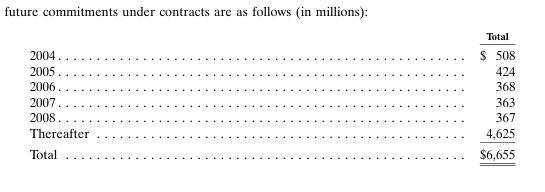table: (28, 28, 514, 160)
table column: (28, 28, 283, 160), (283, 28, 514, 160)
table column header: (28, 28, 514, 43)
table row: (28, 43, 514, 62), (28, 124, 514, 142), (28, 142, 514, 160), (28, 77, 514, 93), (28, 93, 514, 109), (28, 28, 514, 43), (28, 62, 514, 77), (28, 109, 514, 124)
